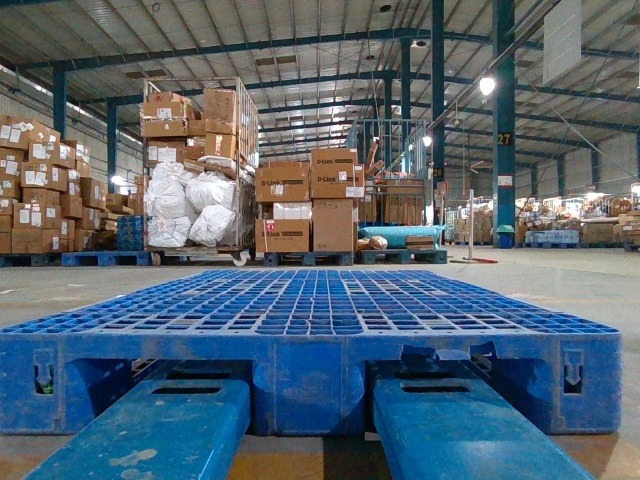block: (252, 334, 363, 431), (0, 332, 83, 439), (536, 332, 618, 432)
front: (1, 332, 620, 432)
hole pallet: (359, 350, 550, 436), (77, 351, 262, 429)
